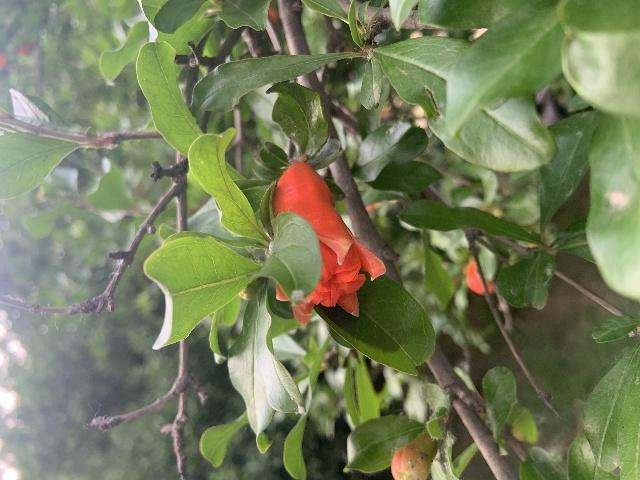bud: (390, 433, 436, 480)
flower: (272, 160, 384, 328)
